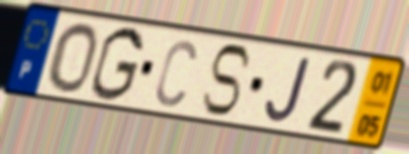2: (303, 57, 360, 139)
C: (153, 37, 199, 110)
G: (87, 24, 146, 105)
J: (263, 54, 315, 126)
O: (45, 20, 100, 95)
S: (199, 41, 254, 119)
